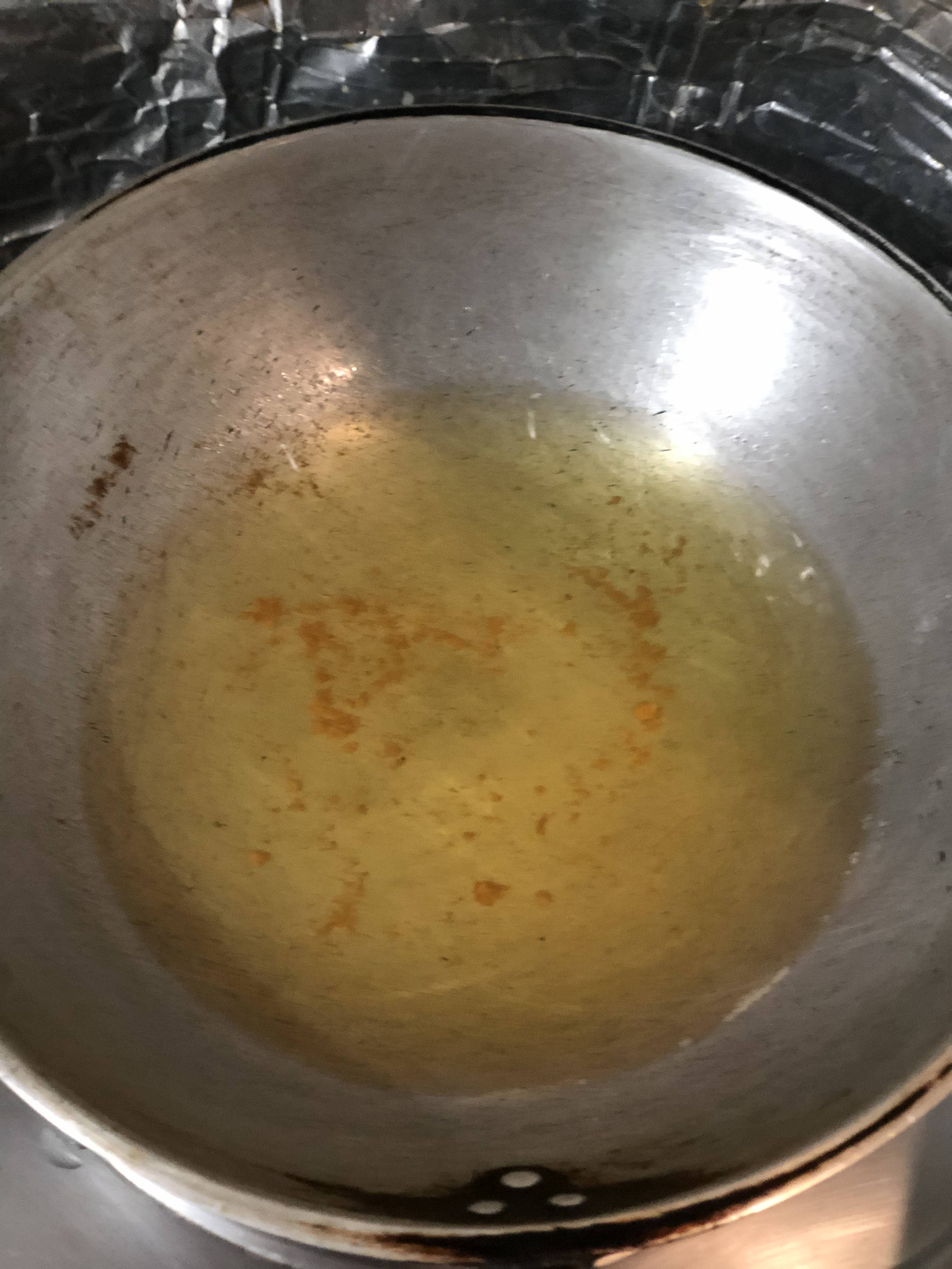reusable: (94, 397, 869, 1086)
